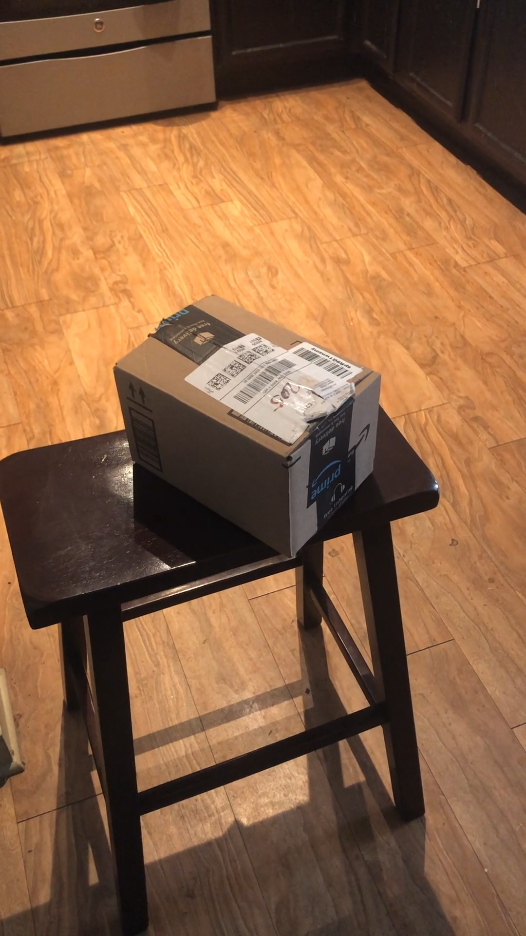package: (110, 289, 381, 562)
